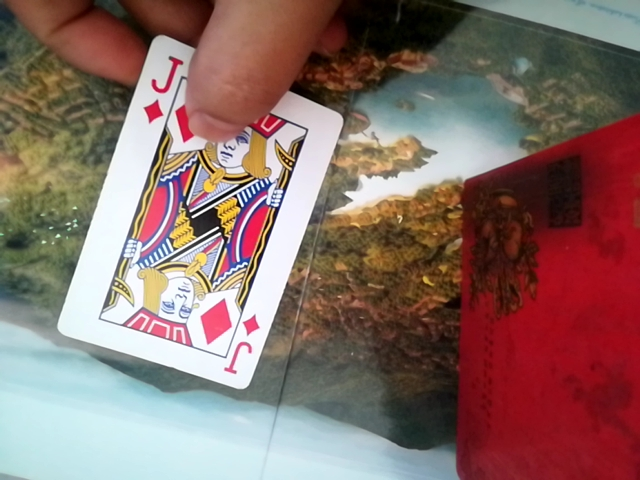fk j: (50, 37, 340, 397)
